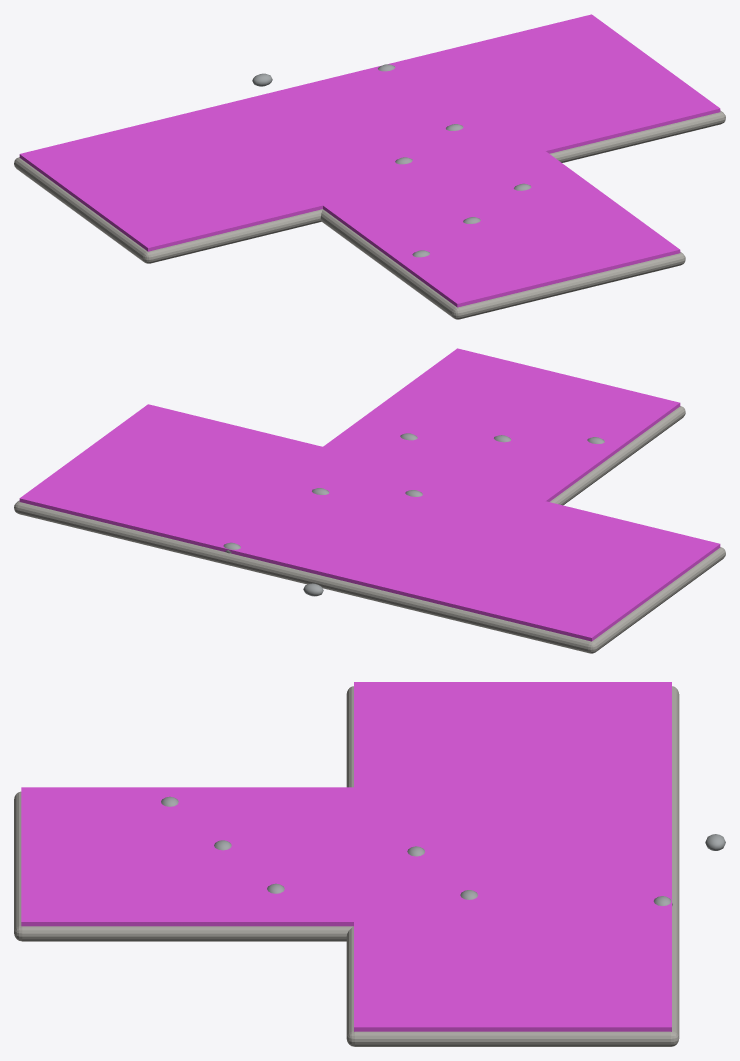
The picture shows the model from 3 angles, top to bottom: view 1: azimuth 30°, elevation 25°; view 2: azimuth 150°, elevation 25°; view 3: azimuth 270°, elevation 25°; orthographic projection. The views are drawn at different scales.
Visible parts, largest first — view 1: NAV_MASK_FOREST_PATH_GRAVEL_T_BAR, NAV_MASK_FOREST_PATH_GRAVEL_T_STEM, LOD0_FOREST_PATH_GRAVEL_T_Bar, LOD0_FOREST_PATH_GRAVEL_T_Stem; view 2: NAV_MASK_FOREST_PATH_GRAVEL_T_BAR, NAV_MASK_FOREST_PATH_GRAVEL_T_STEM, LOD0_FOREST_PATH_GRAVEL_T_Bar, LOD0_FOREST_PATH_GRAVEL_T_Stem; view 3: NAV_MASK_FOREST_PATH_GRAVEL_T_BAR, NAV_MASK_FOREST_PATH_GRAVEL_T_STEM, LOD0_FOREST_PATH_GRAVEL_T_Bar, LOD0_FOREST_PATH_GRAVEL_T_Stem.
Part boxes in pixels (left/top/right/bottom): NAV_MASK_FOREST_PATH_GRAVEL_T_BAR: left=19, top=14, right=720, bottom=251; NAV_MASK_FOREST_PATH_GRAVEL_T_STEM: left=262, top=106, right=680, bottom=307; LOD0_FOREST_PATH_GRAVEL_T_Bar: left=14, top=110, right=725, bottom=263; LOD0_FOREST_PATH_GRAVEL_T_Stem: left=320, top=209, right=685, bottom=319; NAV_MASK_FOREST_PATH_GRAVEL_T_BAR: left=19, top=404, right=720, bottom=641; NAV_MASK_FOREST_PATH_GRAVEL_T_STEM: left=323, top=348, right=680, bottom=538; LOD0_FOREST_PATH_GRAVEL_T_Bar: left=14, top=500, right=725, bottom=653; LOD0_FOREST_PATH_GRAVEL_T_Stem: left=550, top=406, right=685, bottom=505; NAV_MASK_FOREST_PATH_GRAVEL_T_BAR: left=354, top=682, right=671, bottom=1031; NAV_MASK_FOREST_PATH_GRAVEL_T_STEM: left=21, top=787, right=505, bottom=926; LOD0_FOREST_PATH_GRAVEL_T_Bar: left=346, top=686, right=679, bottom=1046; LOD0_FOREST_PATH_GRAVEL_T_Stem: left=14, top=791, right=353, bottom=941.
Size of what is drawn, in the model's own units: 8 by 0.24 by 6.85.
